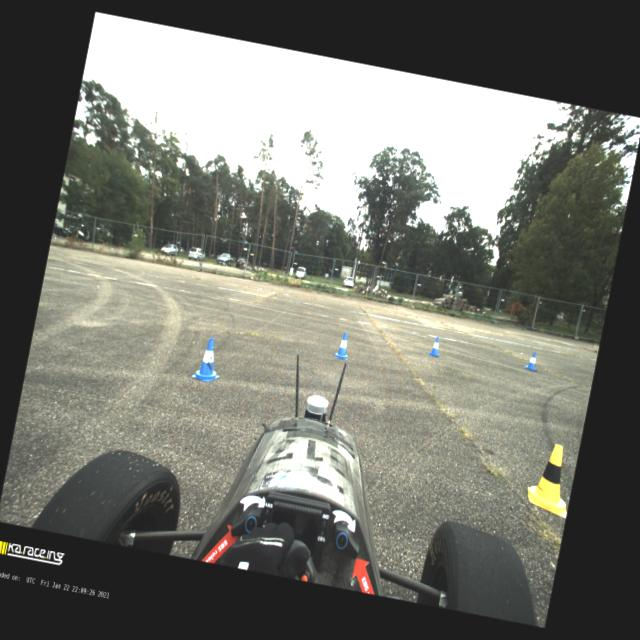blue_cone: (191, 336, 227, 384), (334, 332, 353, 360), (524, 351, 540, 372), (429, 336, 443, 358)
yellow_cone: (524, 440, 580, 518)
